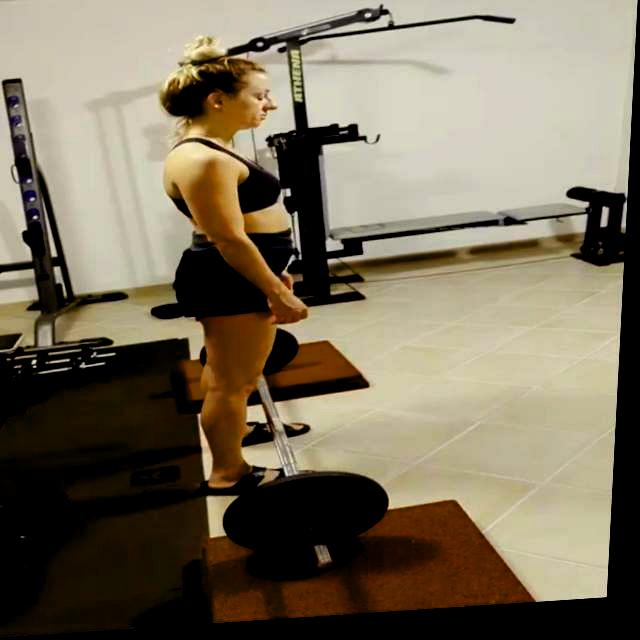barbell: (225, 467, 400, 587)
